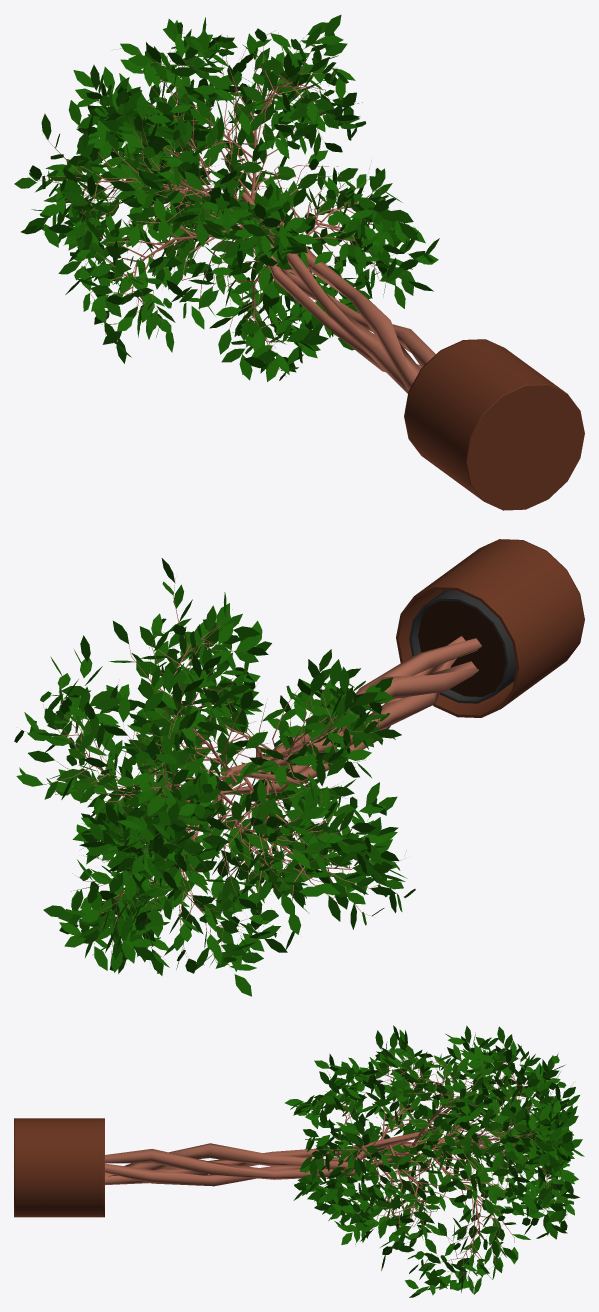
File: ficus.dae
3 views of the same model, one above another, from view 1: azimuth 30°, elevation 25°; view 2: azimuth 150°, elevation 25°; view 3: azimuth 270°, elevation 25° (orthographic). The views are drawn at different scales.
Parts seen in each view (by area): view 1: leaves, Cylinder_001, tree; view 2: leaves, tree, Cylinder_001, Cylinder_002, Cylinder; view 3: leaves, tree, Cylinder_001.
Part boxes in pixels (box(x1,y1,x2,y2)): leaves: box(14, 15, 439, 381); Cylinder_001: box(404, 339, 584, 510); tree: box(35, 30, 435, 393); leaves: box(14, 558, 415, 996); tree: box(20, 578, 481, 964); Cylinder_001: box(396, 539, 584, 717); Cylinder_002: box(418, 601, 505, 696); Cylinder: box(409, 590, 516, 703); leaves: box(285, 1025, 584, 1297); tree: box(105, 1037, 566, 1284); Cylinder_001: box(14, 1118, 104, 1217).
Bounding box in the file's own units: 4.25 × 8.24 × 4.15.
